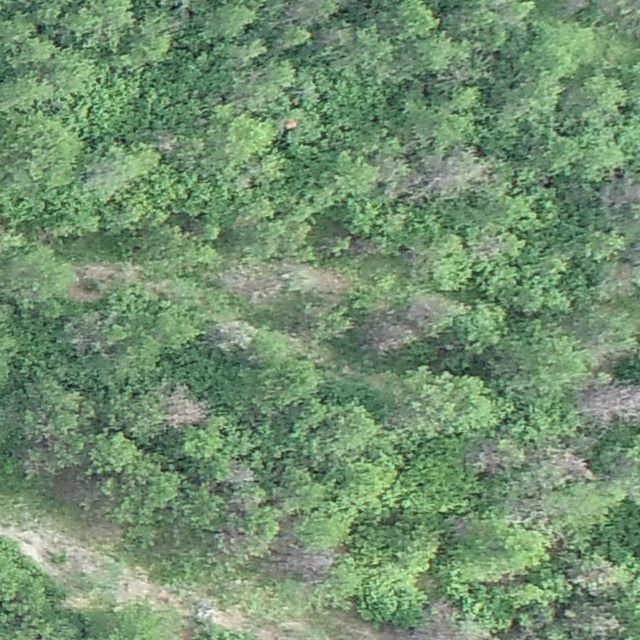unhealthy: (419, 149, 495, 194), (580, 380, 639, 428), (220, 261, 284, 302), (362, 312, 416, 356), (161, 387, 210, 428), (73, 260, 139, 287), (65, 313, 107, 355), (546, 445, 592, 482), (574, 602, 621, 638), (600, 175, 640, 215), (209, 318, 254, 353), (466, 440, 506, 476), (406, 294, 452, 325), (289, 549, 334, 579), (309, 266, 351, 298), (412, 621, 463, 639), (225, 462, 258, 488), (68, 283, 104, 305), (429, 596, 459, 619), (456, 623, 494, 640), (560, 0, 592, 16), (252, 625, 283, 639)
